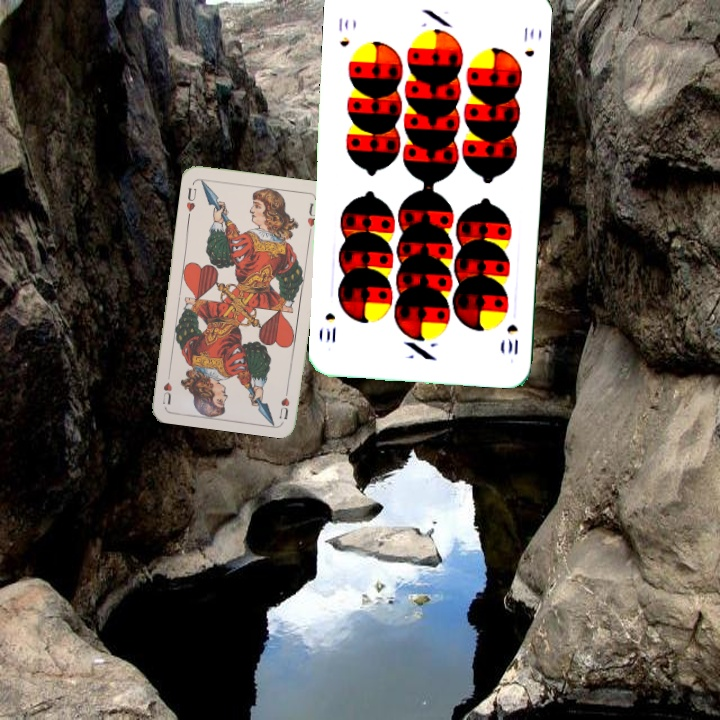HU: (275, 382, 292, 422), (182, 183, 199, 214)
S10: (503, 320, 521, 357), (334, 14, 352, 49)
